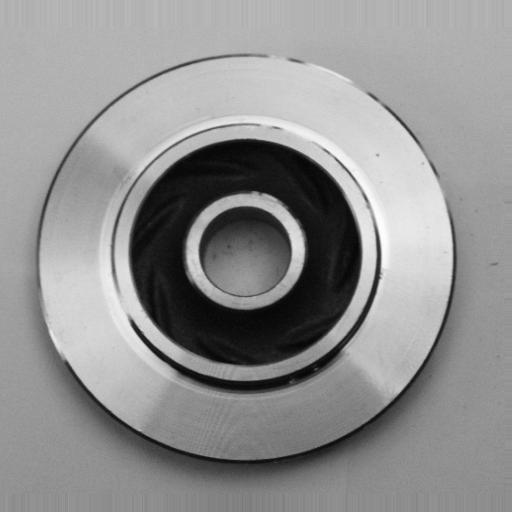scratch: (259, 112, 351, 172), (30, 278, 84, 379)
unpolished_casting: (32, 51, 462, 468)
